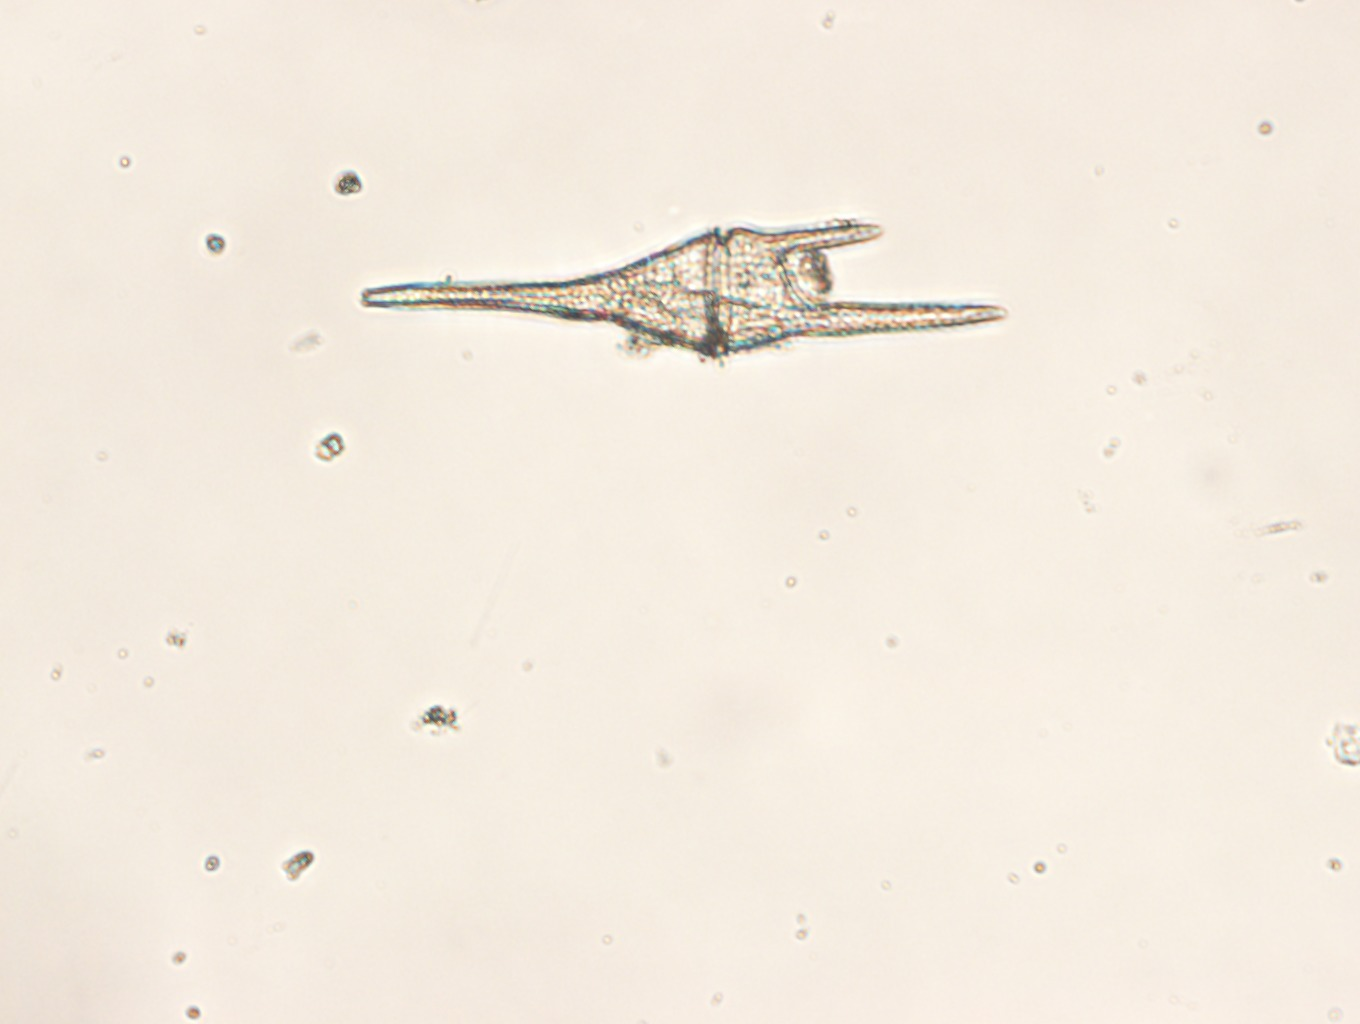ceratium furca: (358, 221, 1012, 356)
